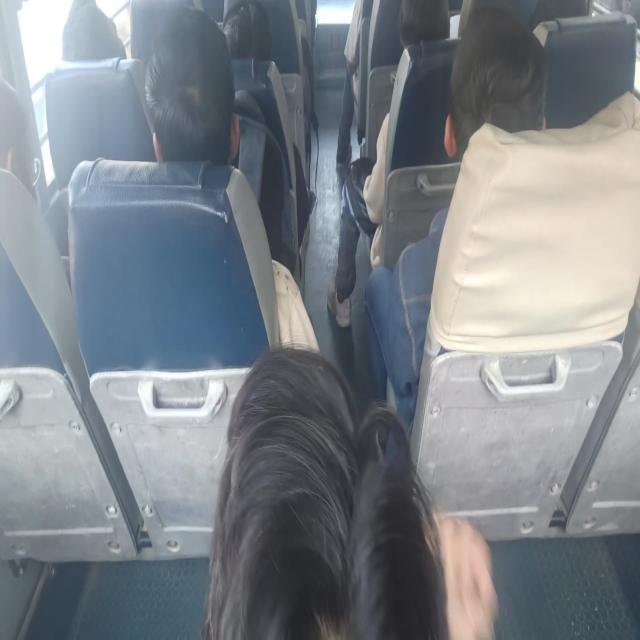person: (212, 346, 464, 640), (143, 18, 243, 171), (452, 14, 542, 168), (0, 78, 44, 199), (211, 0, 280, 64), (60, 0, 122, 62), (400, 0, 454, 58)
